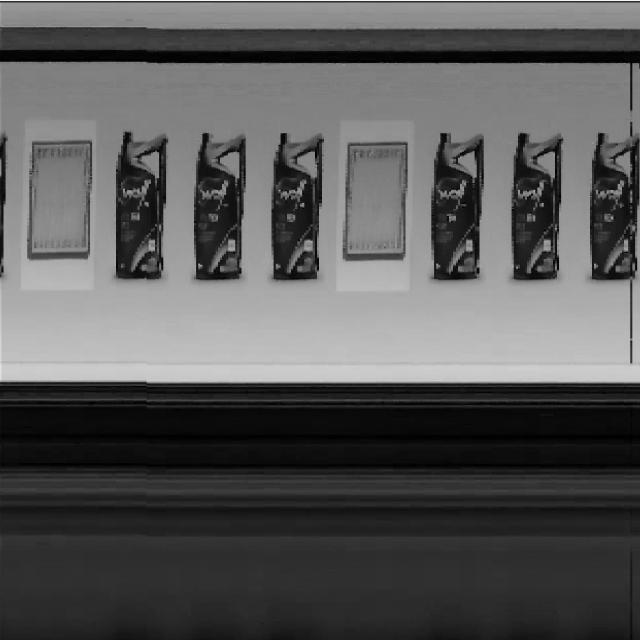air_filter: (338, 133, 411, 269), (24, 134, 93, 266)
motor_oil: (428, 125, 490, 291), (192, 120, 251, 286), (268, 125, 326, 292), (114, 126, 172, 284), (510, 125, 566, 286), (587, 128, 639, 288)
